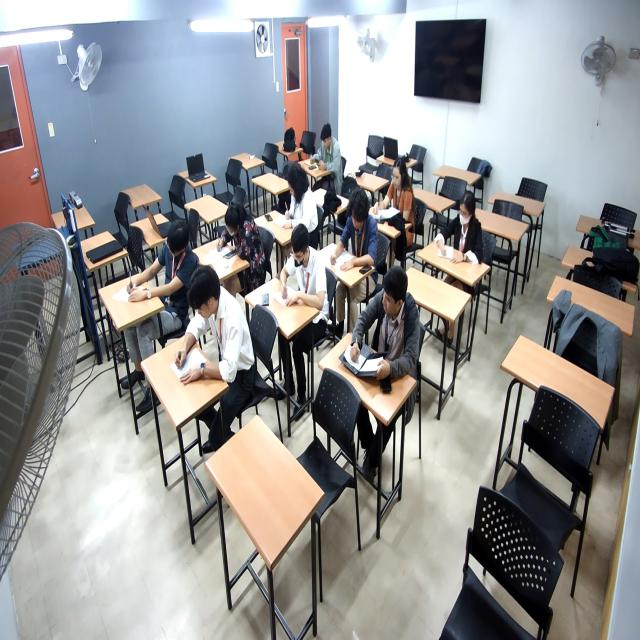read: (334, 272, 417, 393), (168, 279, 248, 394), (118, 230, 191, 310), (327, 195, 380, 284), (433, 194, 490, 275), (276, 234, 324, 317), (372, 161, 417, 226), (275, 174, 316, 237), (213, 205, 258, 261), (304, 126, 339, 173)
